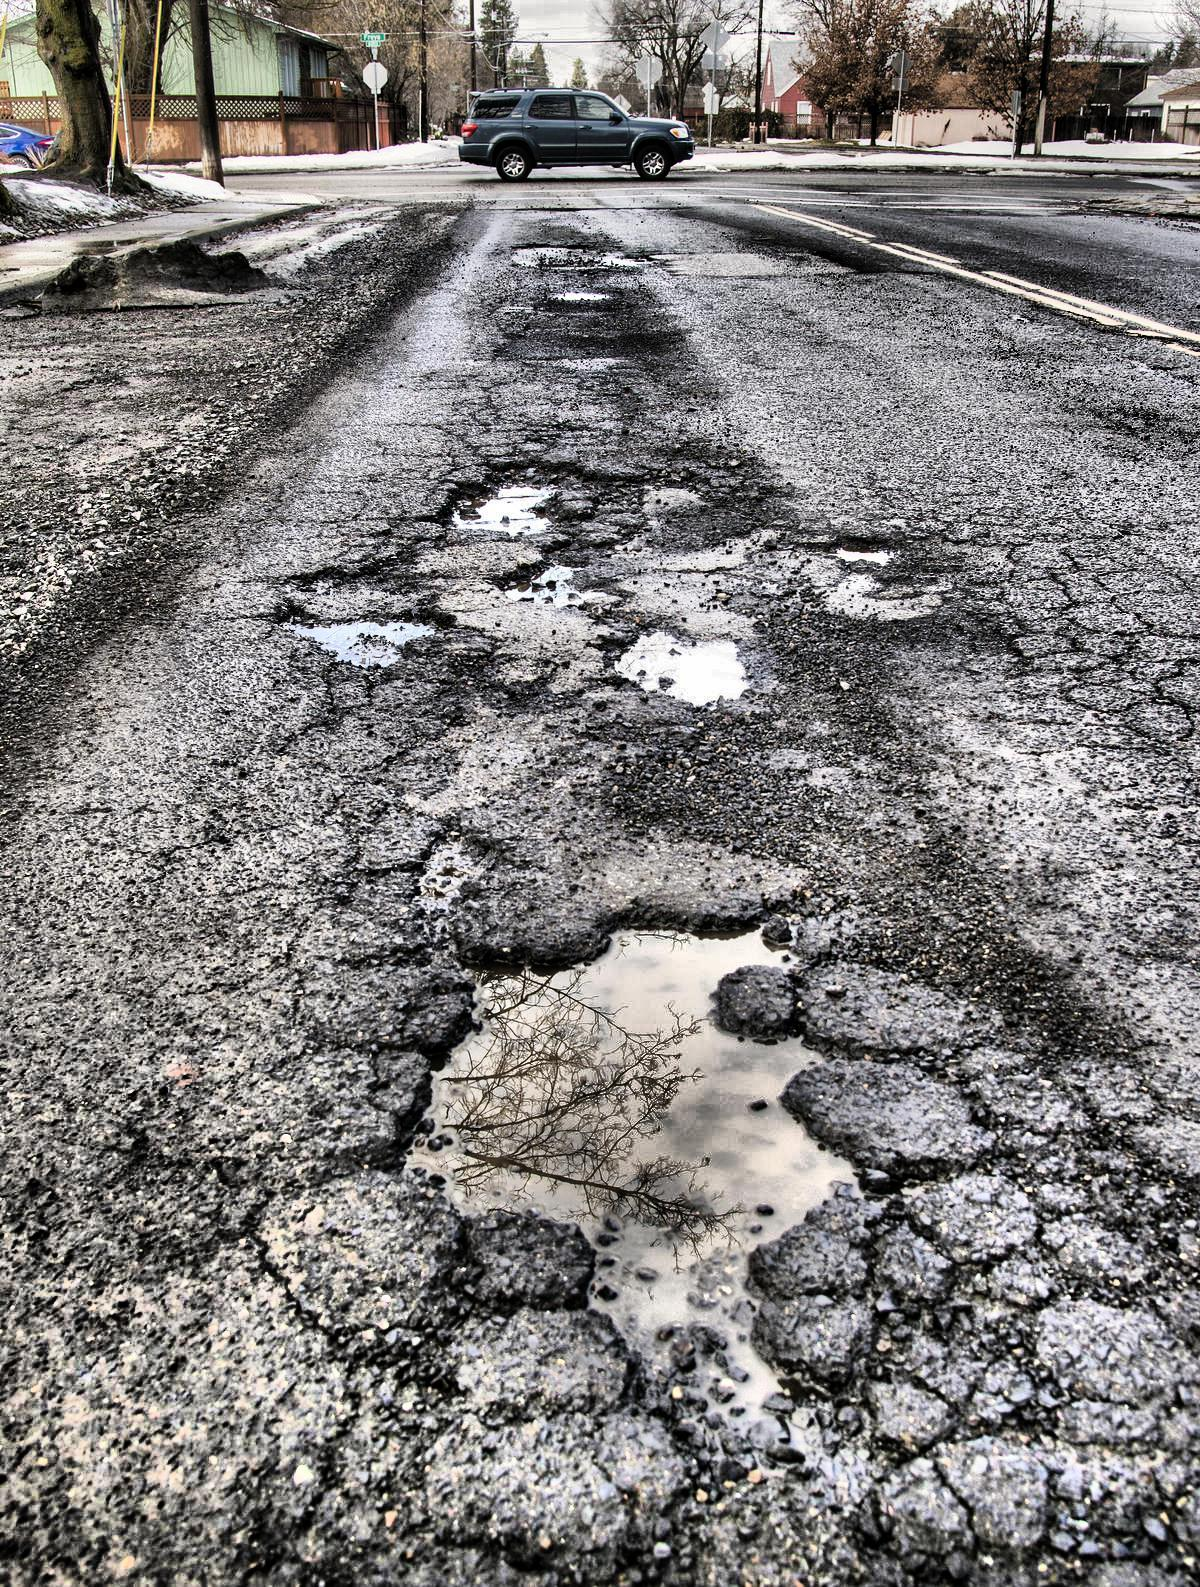pothole: (395, 928, 872, 1429), (290, 453, 823, 722), (505, 218, 671, 410), (832, 500, 938, 653)
